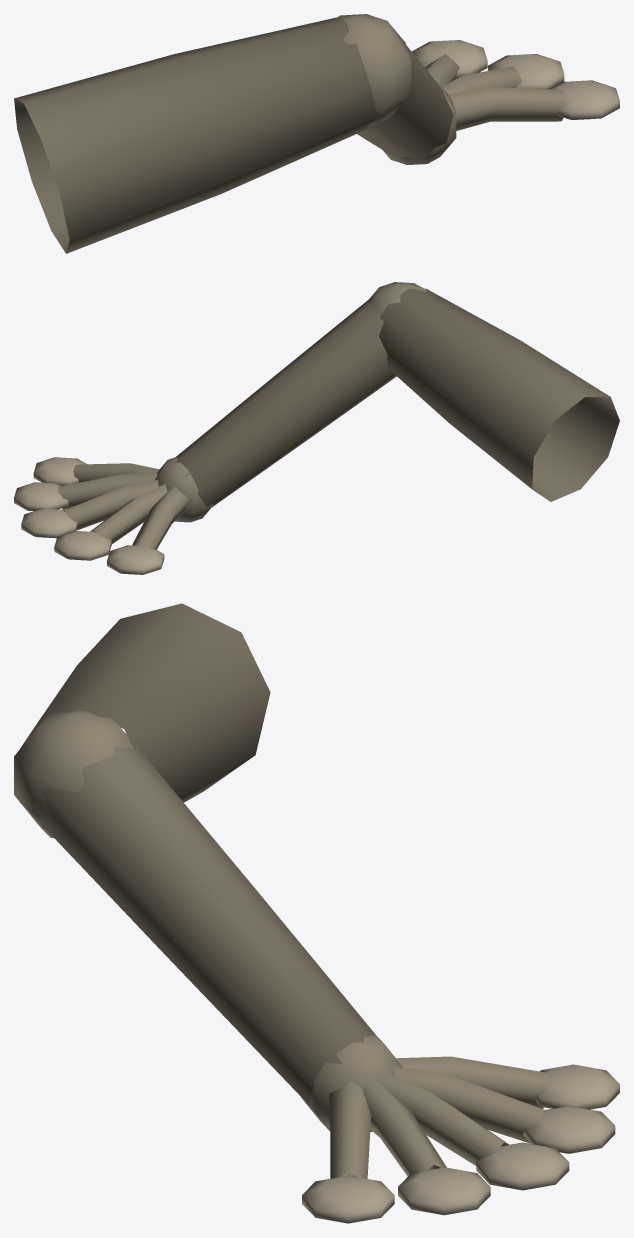
Rendered from Yamori_Leg2.fbx.
3 views of the same model, one above another, from view 1: azimuth 30°, elevation 25°; view 2: azimuth 150°, elevation 25°; view 3: azimuth 270°, elevation 25° (orthographic). The views are drawn at different scales.
Visible parts, largest first — view 1: Yamori_Leg2; view 2: Yamori_Leg2; view 3: Yamori_Leg2.
Boxes of the visible parts, x1,y1,x2,y2 form: Yamori_Leg2: (14, 14, 619, 253); Yamori_Leg2: (14, 282, 619, 574); Yamori_Leg2: (14, 603, 619, 1223).
Size of the model in its own units: 0.9304 by 0.36 by 0.6208.
